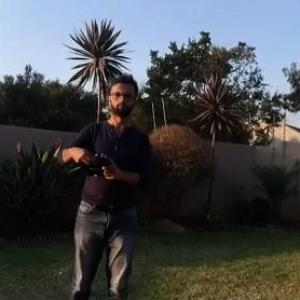follow: (53, 64, 157, 299)
